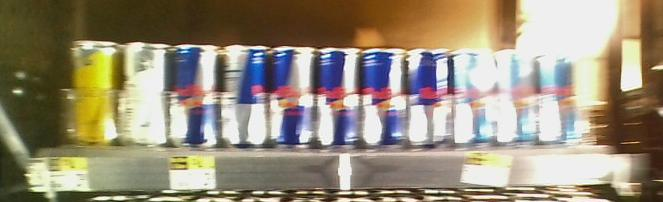bottle: (66, 28, 118, 153), (172, 32, 217, 159), (222, 35, 270, 151), (407, 34, 448, 157), (122, 36, 166, 150), (318, 44, 360, 159), (275, 38, 314, 159), (363, 40, 403, 157), (452, 41, 488, 154)
